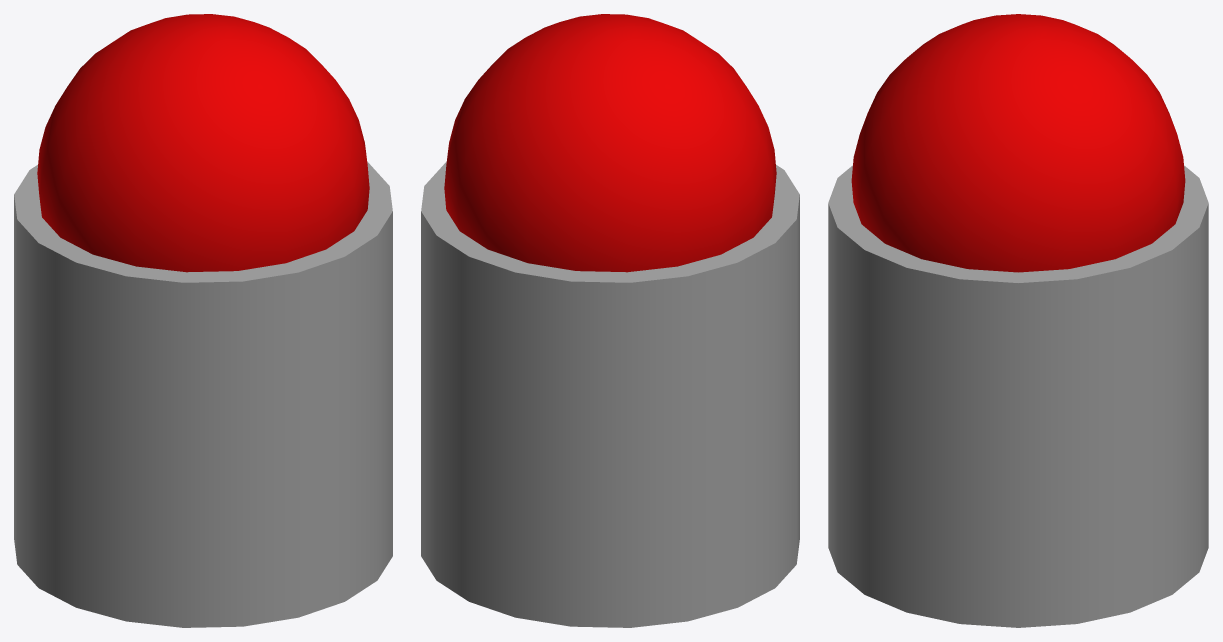
File: TheBestPropIveevermade.fbx
3 views of the same model, side by side, from view 1: azimuth 30°, elevation 25°; view 2: azimuth 150°, elevation 25°; view 3: azimuth 270°, elevation 25° (orthographic).
Visible parts, largest first — view 1: pSphere2; view 2: pSphere2; view 3: pSphere2.
Part boxes in pixels (x1,y1,x2,y2): pSphere2: (14, 14, 392, 627); pSphere2: (421, 14, 799, 627); pSphere2: (828, 14, 1208, 627).
Size of the model in its own units: 2 by 3 by 2.
